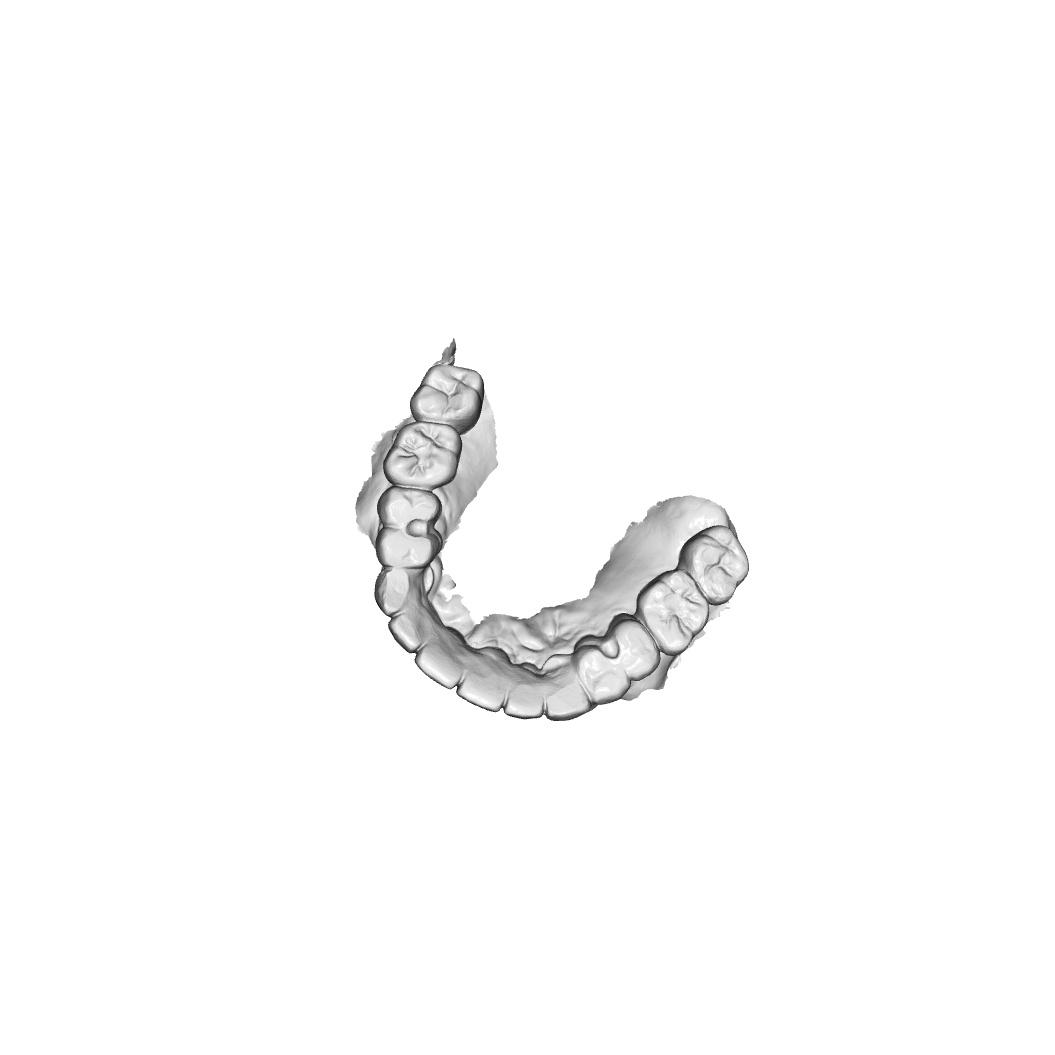canine: (372, 567, 425, 617), (545, 672, 592, 722)
incisor: (455, 665, 506, 715), (413, 638, 462, 690), (503, 678, 545, 721), (387, 614, 432, 654)
molar: (635, 568, 710, 657), (408, 362, 485, 436), (382, 421, 464, 490), (678, 523, 748, 597)
premolar: (572, 641, 632, 707), (607, 612, 661, 682), (376, 484, 443, 528), (374, 527, 444, 568)
